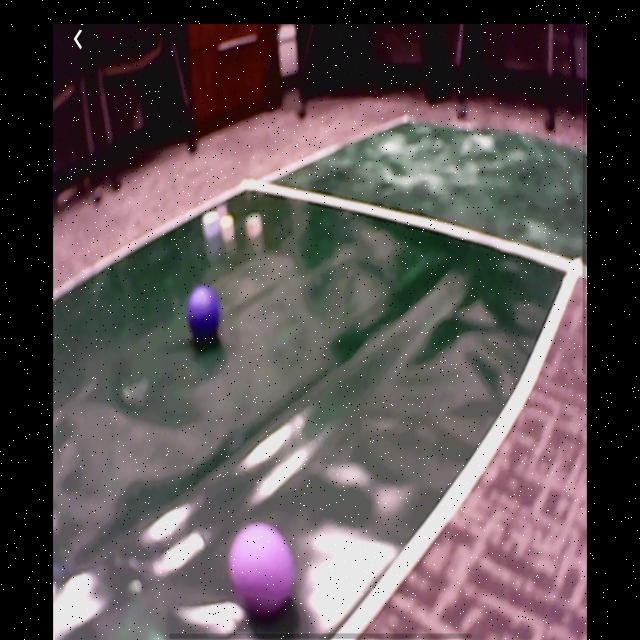ball: (230, 525, 295, 613), (187, 284, 221, 339)
